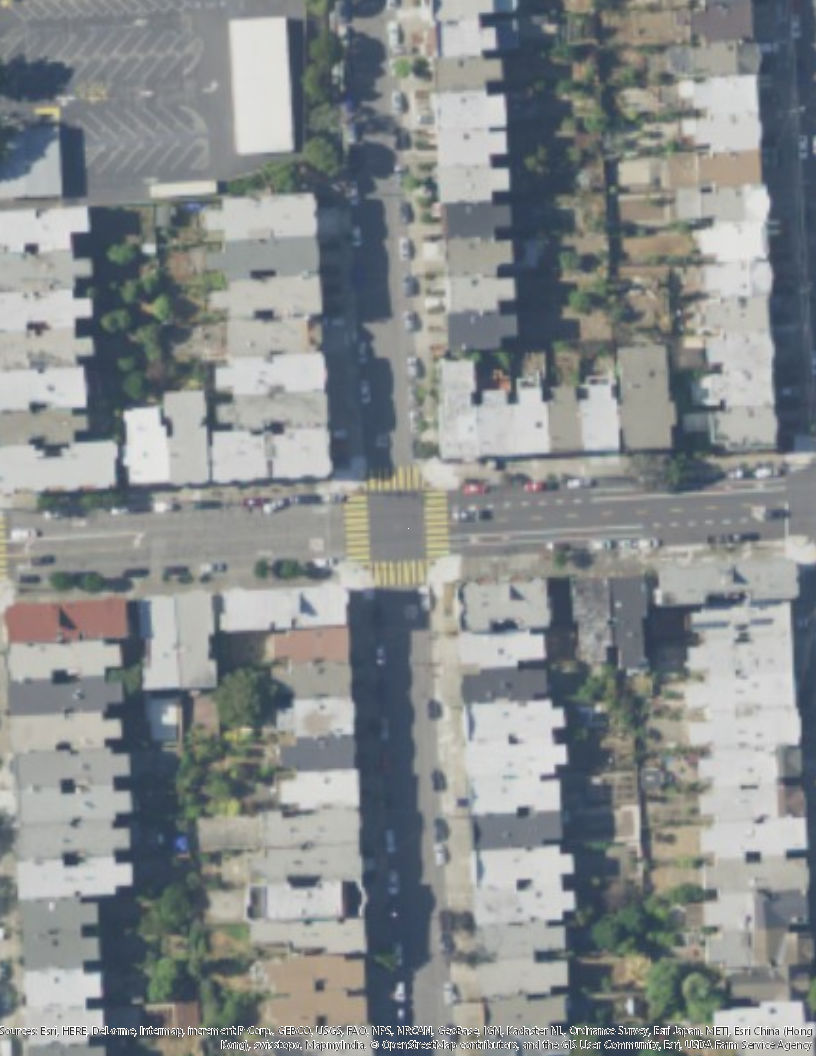zebracross: (338, 492, 372, 558), (420, 488, 451, 557), (369, 557, 430, 587), (365, 468, 430, 491)
